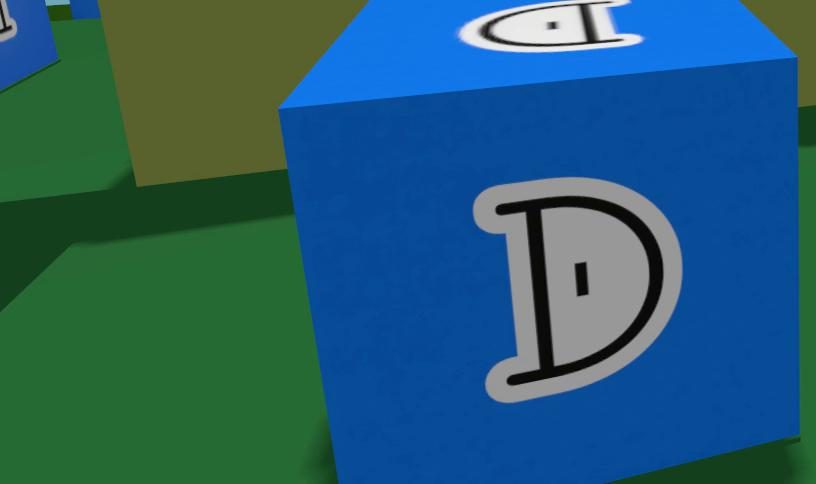KFS_REAL: (279, 0, 797, 483), (474, 177, 680, 402), (459, 0, 642, 52), (0, 0, 57, 87), (71, 0, 100, 17)
